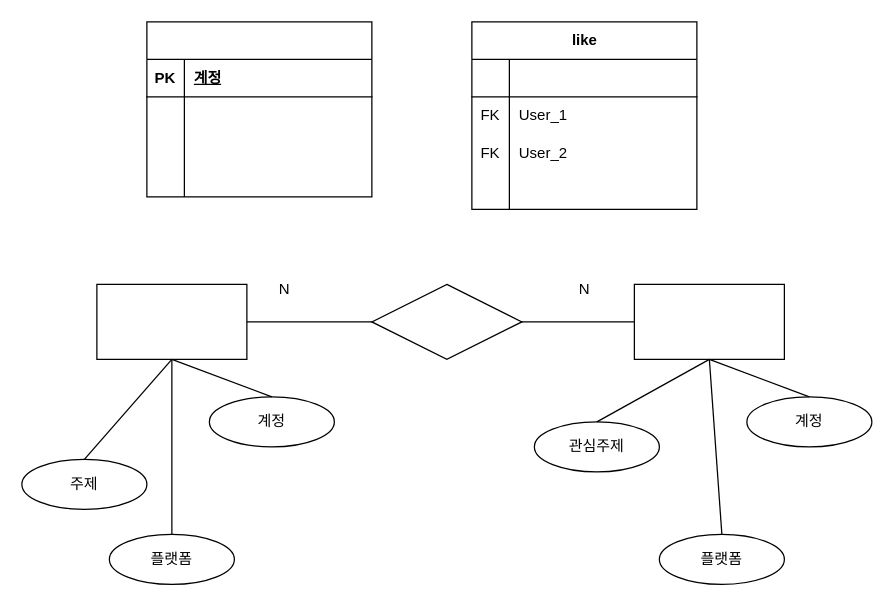
This 894x606 diagram has some shape labels left out. Here are the shapes that lost their labels. From the top down, the box of each, then its label:
(146, 21, 372, 197): User
(96, 283, 247, 359): 인플루언서
(371, 283, 522, 359): 좋아요 팔로잉
(633, 283, 784, 359): 팔로워
